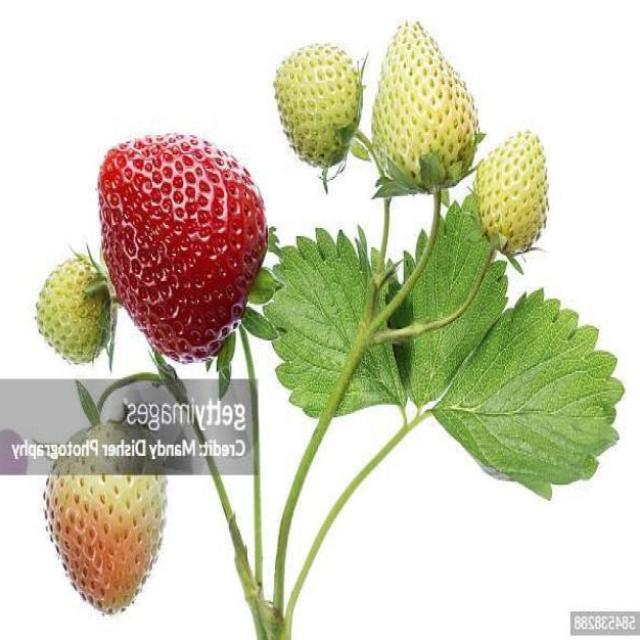Healthy Fruit: (96, 131, 268, 364), (41, 419, 168, 615), (370, 18, 481, 193), (271, 41, 367, 182), (471, 128, 549, 257), (34, 244, 115, 366)
